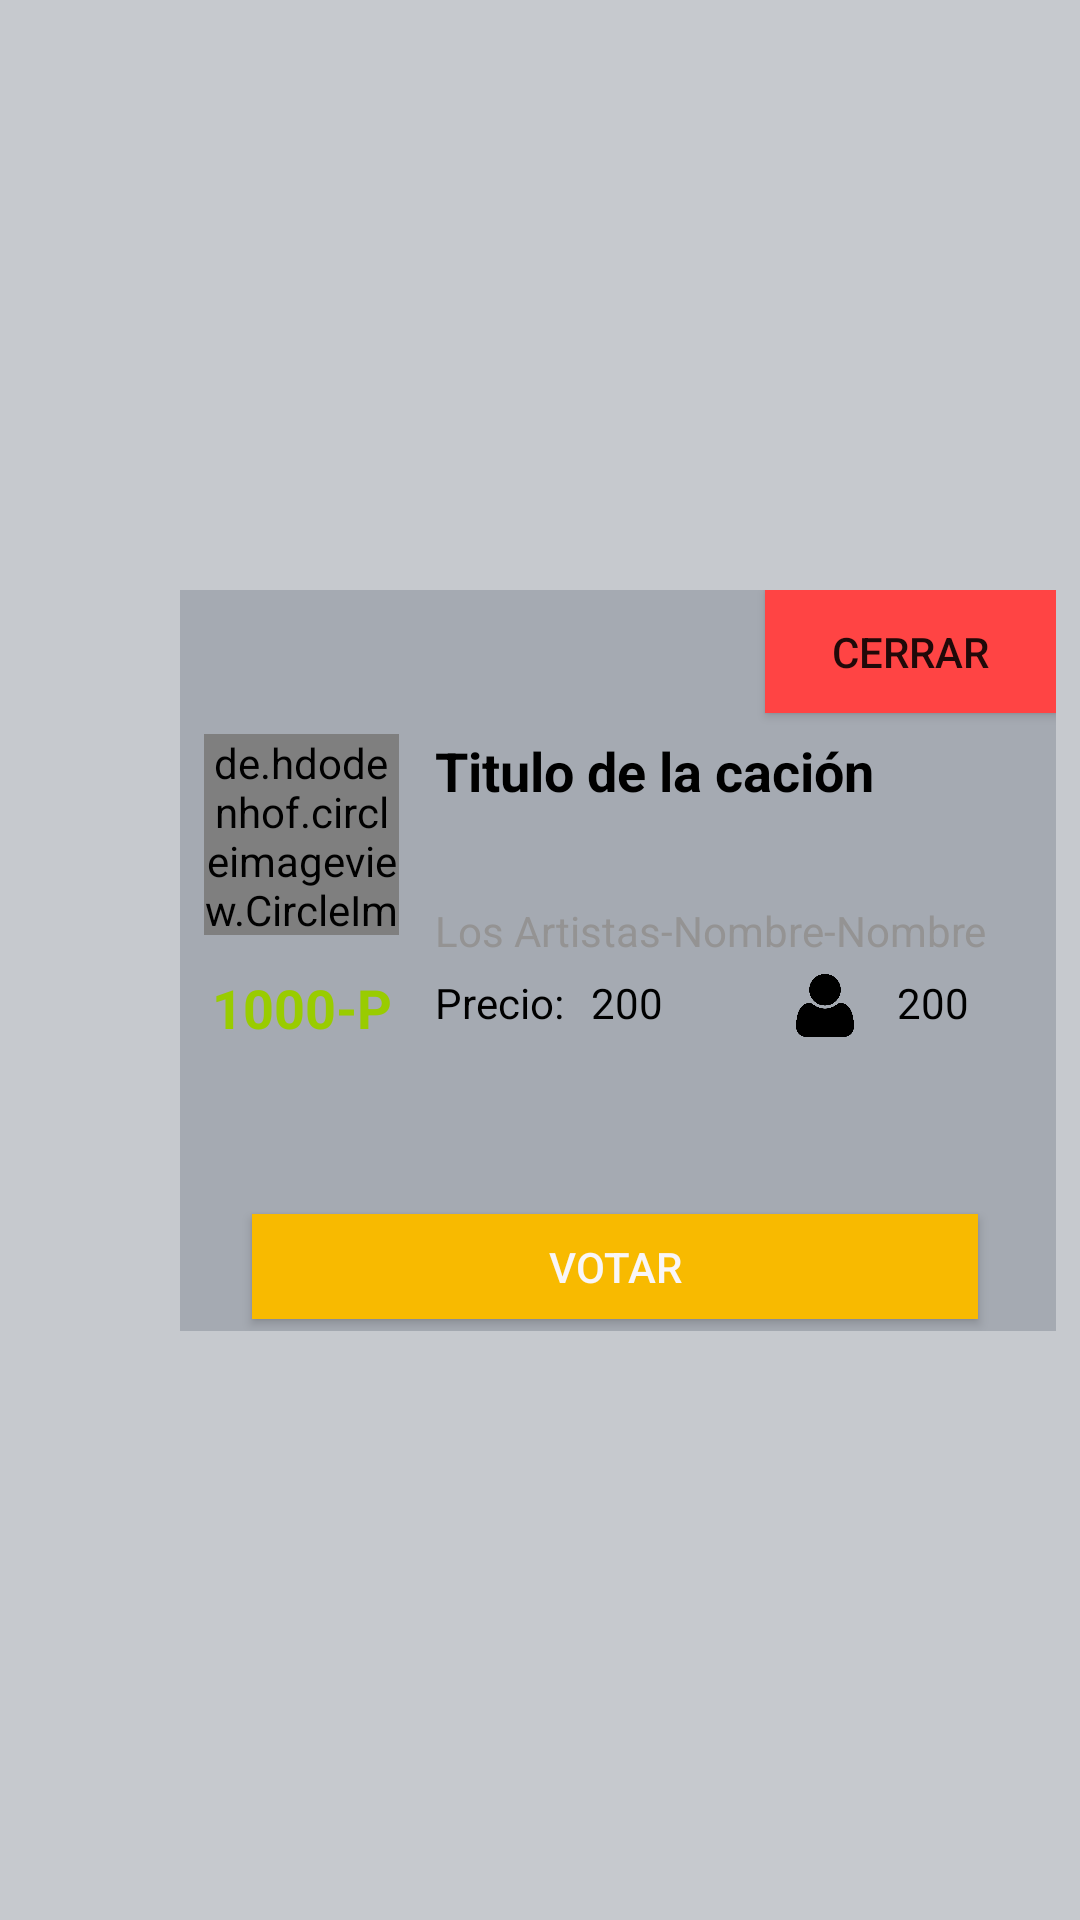

Icons on this 1080*1920 Android screen, each with the point to tap as point (x, y):
persona: point (825, 1005)
